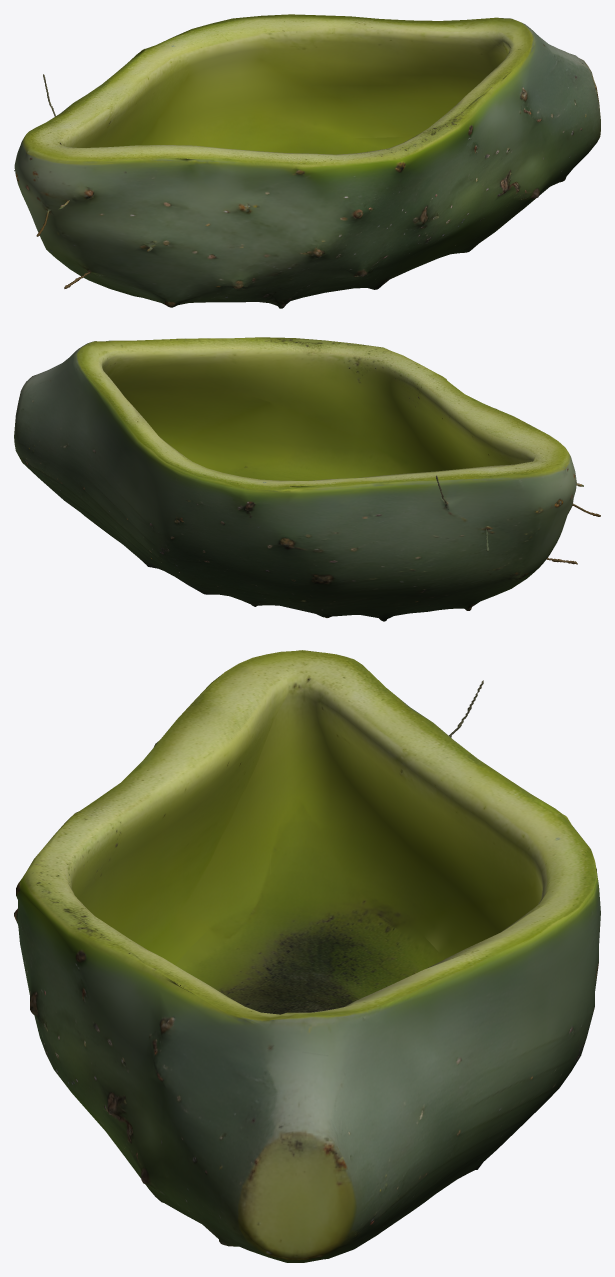
File: swardedcactaus.fbx
3 views of the same model, one above another, from view 1: azimuth 30°, elevation 25°; view 2: azimuth 150°, elevation 25°; view 3: azimuth 270°, elevation 25° (orthographic). The views are drawn at different scales.
Parts seen in each view (by area): view 1: mesh_rep_0_ori_repair_quad; view 2: mesh_rep_0_ori_repair_quad; view 3: mesh_rep_0_ori_repair_quad.
Boxes of the visible parts, x1,y1,x2,y2 form: mesh_rep_0_ori_repair_quad: (14,14,600,308); mesh_rep_0_ori_repair_quad: (14,337,600,621); mesh_rep_0_ori_repair_quad: (14,650,600,1262).
Bounding box in the file's own units: 118 × 38.33 × 68.2.
